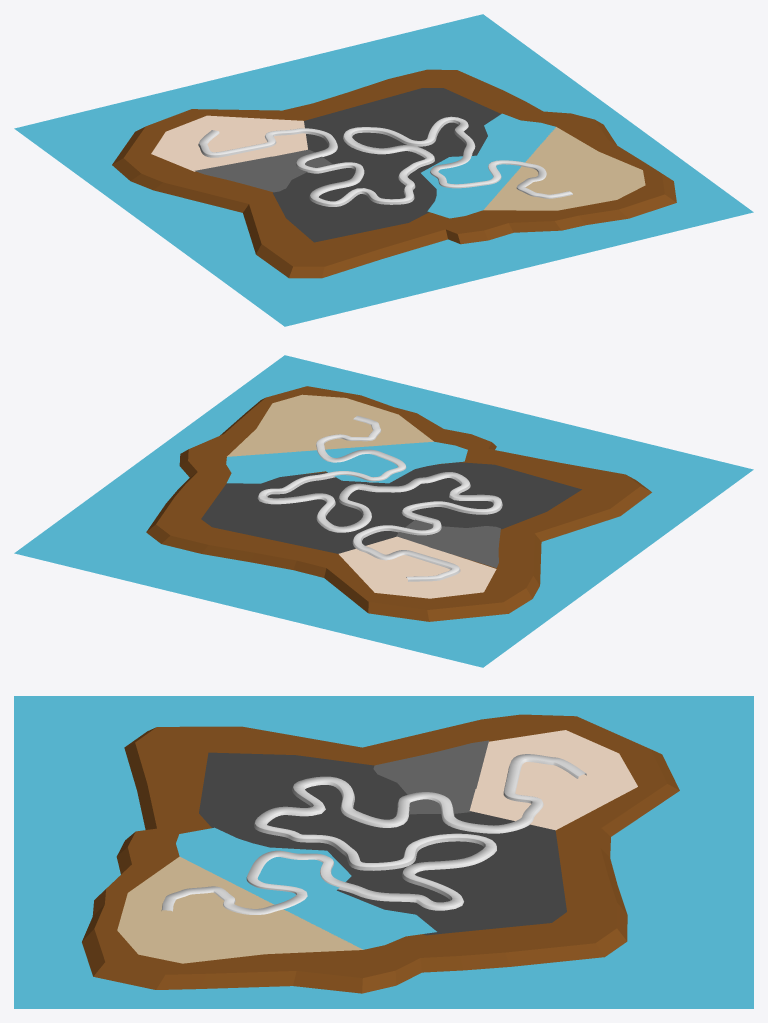
Rendered from Etapa1.fbx.
3 views of the same model, one above another, from view 1: azimuth 30°, elevation 25°; view 2: azimuth 150°, elevation 25°; view 3: azimuth 270°, elevation 25° (orthographic). The views are drawn at different scales.
Parts seen in each view (by area): view 1: MAR, marron oscuro, VERDE OSCURO, VERDE CLARO, Playa Arena, hielo, Urbe Rosa, Gris, Tramo2Tierra, Tramo3Grava, Tramo4AsfaltoObstaculos, Tramo1Asfalto; view 2: MAR, marron oscuro, VERDE OSCURO, VERDE CLARO, Playa Arena, hielo, Urbe Rosa, Gris, Tramo3Grava, Tramo2Tierra, Tramo4AsfaltoObstaculos, Tramo1Asfalto; view 3: MAR, marron oscuro, VERDE OSCURO, VERDE CLARO, Playa Arena, hielo, Urbe Rosa, Gris, Tramo2Tierra, Tramo3Grava, Tramo4AsfaltoObstaculos, Tramo1Asfalto.
Part boxes in pixels (x1,y1,x2,y2): MAR: (14, 14, 753, 326); marron oscuro: (112, 69, 676, 278); VERDE OSCURO: (304, 88, 500, 166); VERDE CLARO: (273, 164, 436, 242); Playa Arena: (483, 127, 645, 210); hielo: (421, 113, 555, 218); Urbe Rosa: (151, 115, 307, 171); Gris: (195, 149, 332, 192); Tramo2Tierra: (343, 116, 475, 165); Tramo3Grava: (309, 161, 424, 206); Tramo4AsfaltoObstaculos: (198, 128, 337, 173); Tramo1Asfalto: (430, 147, 572, 198); MAR: (14, 355, 753, 667); marron oscuro: (146, 386, 651, 621); VERDE OSCURO: (201, 472, 413, 553); VERDE CLARO: (354, 462, 581, 529); Playa Arena: (227, 394, 433, 456); hielo: (226, 441, 467, 483); Urbe Rosa: (339, 536, 496, 598); Gris: (396, 519, 500, 567); Tramo3Grava: (367, 472, 502, 522); Tramo2Tierra: (257, 475, 371, 532); Tramo4AsfaltoObstaculos: (352, 517, 460, 581); Tramo1Asfalto: (315, 415, 406, 482); MAR: (14, 696, 753, 1008); marron oscuro: (82, 714, 679, 993); VERDE OSCURO: (337, 811, 566, 935); VERDE CLARO: (199, 752, 411, 869); Playa Arena: (117, 856, 363, 963); hielo: (176, 827, 436, 949); Urbe Rosa: (469, 730, 637, 830); Gris: (373, 740, 488, 814); Tramo2Tierra: (347, 833, 496, 910); Tramo3Grava: (254, 776, 409, 859); Tramo4AsfaltoObstaculos: (397, 754, 586, 833); Tramo1Asfalto: (161, 850, 363, 914).
Bounding box in the file's own units: 54.4 × 1.32 × 54.4.
